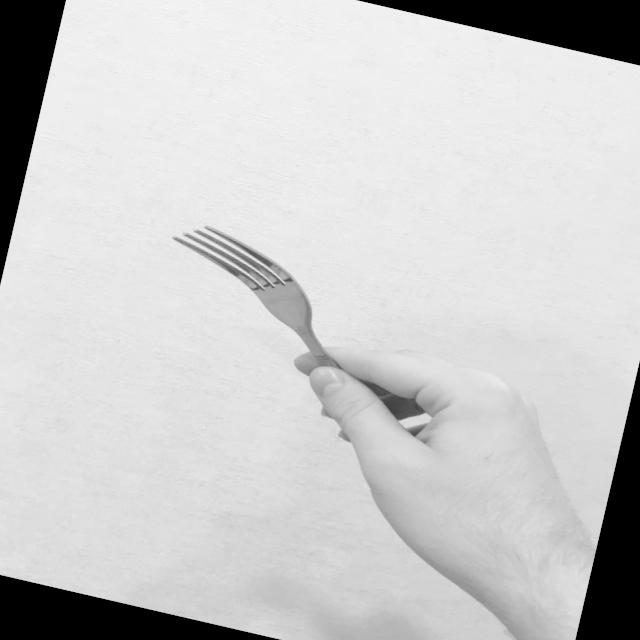fork: (133, 212, 454, 441)
